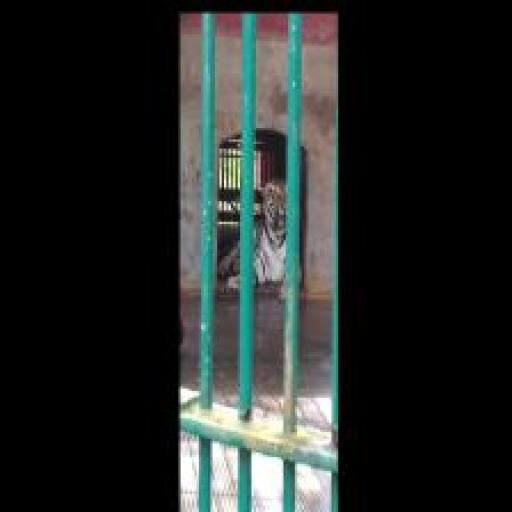Tiger: (222, 144, 306, 313)
